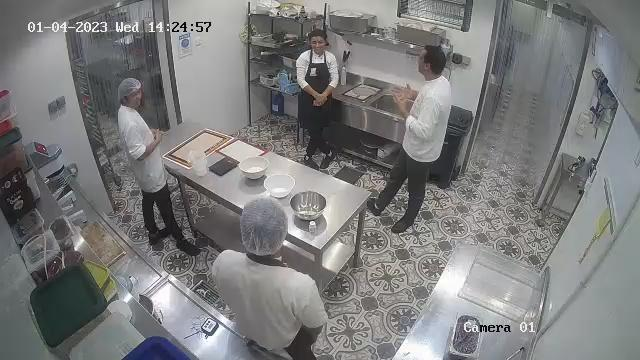apron: (298, 52, 331, 122)
no_apron: (400, 79, 446, 161), (133, 111, 167, 190)
